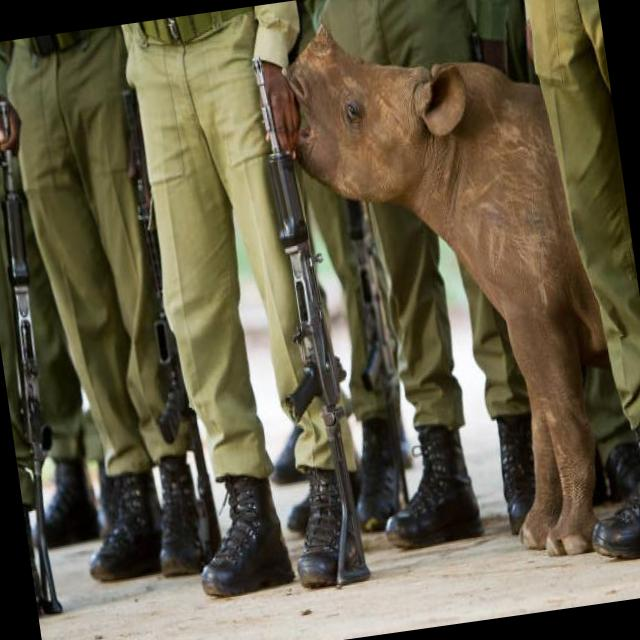rhino: (279, 0, 608, 452)
weapon: (226, 18, 405, 600)
